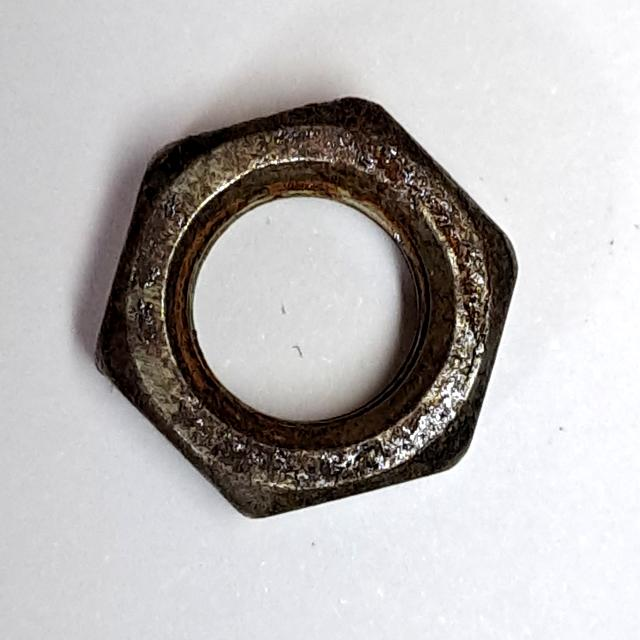Rust: (79, 81, 524, 531)
